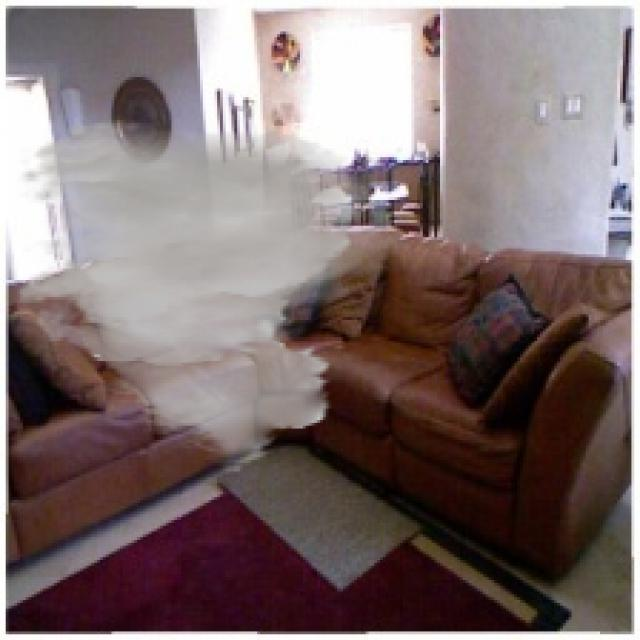smoke: (14, 120, 417, 474)
